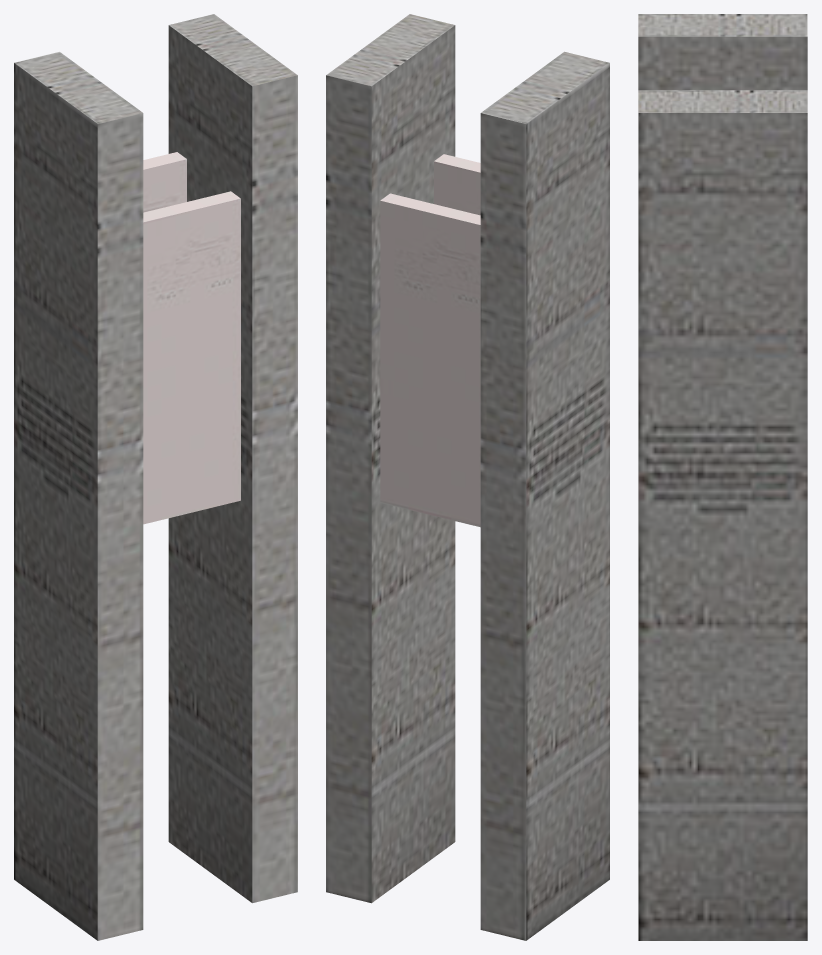
Rendered from Estatuaplaza.fbx.
3 renders of one model, left to right at view 1: azimuth 30°, elevation 25°; view 2: azimuth 150°, elevation 25°; view 3: azimuth 270°, elevation 25°, orthographic.
Parts seen in each view (by area): view 1: Cube.001, Cube, Cube.003, Cube.002; view 2: Cube.001, Cube, Cube.002, Cube.003; view 3: Cube, Cube.001.
Part boxes in pixels (x1=…): Cube.001: x1=14, y1=51, x2=143, y2=940; Cube: x1=168, y1=14, x2=297, y2=903; Cube.003: x1=143, y1=191, x2=240, y2=524; Cube.002: x1=143, y1=152, x2=186, y2=212; Cube.001: x1=480, y1=51, x2=609, y2=940; Cube: x1=326, y1=14, x2=455, y2=903; Cube.002: x1=380, y1=193, x2=480, y2=527; Cube.003: x1=434, y1=154, x2=480, y2=215; Cube: x1=638, y1=90, x2=807, y2=940; Cube.001: x1=638, y1=14, x2=807, y2=90.
Bounding box in the file's own units: 51.33 × 200 × 37.19.
